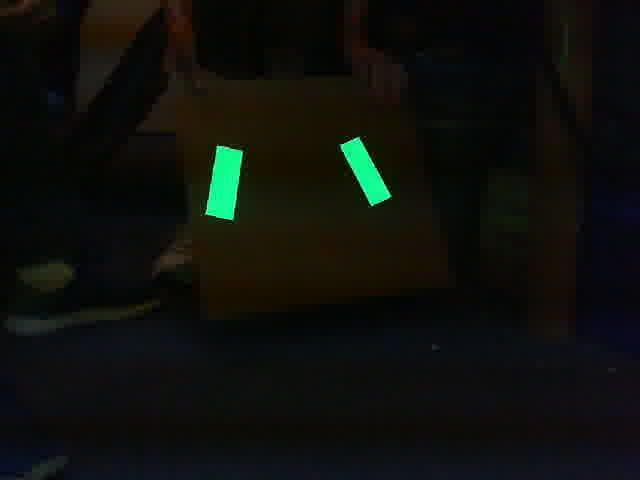target: (205, 137, 395, 224)
